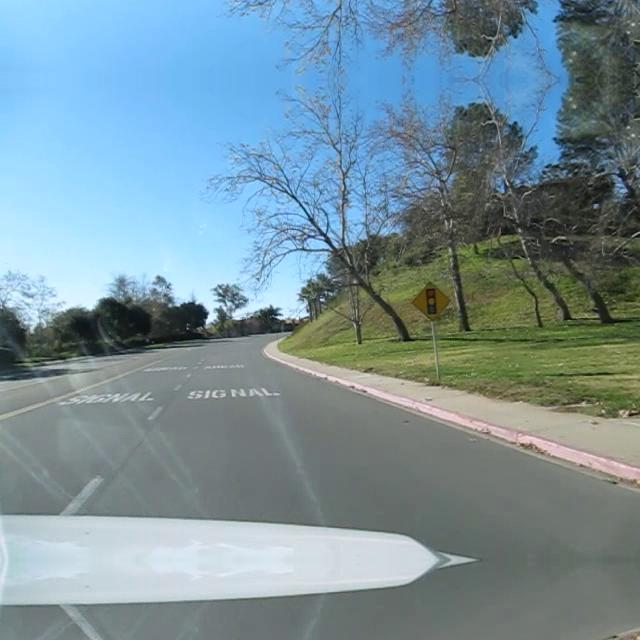signalAhead: (410, 280, 450, 322)
